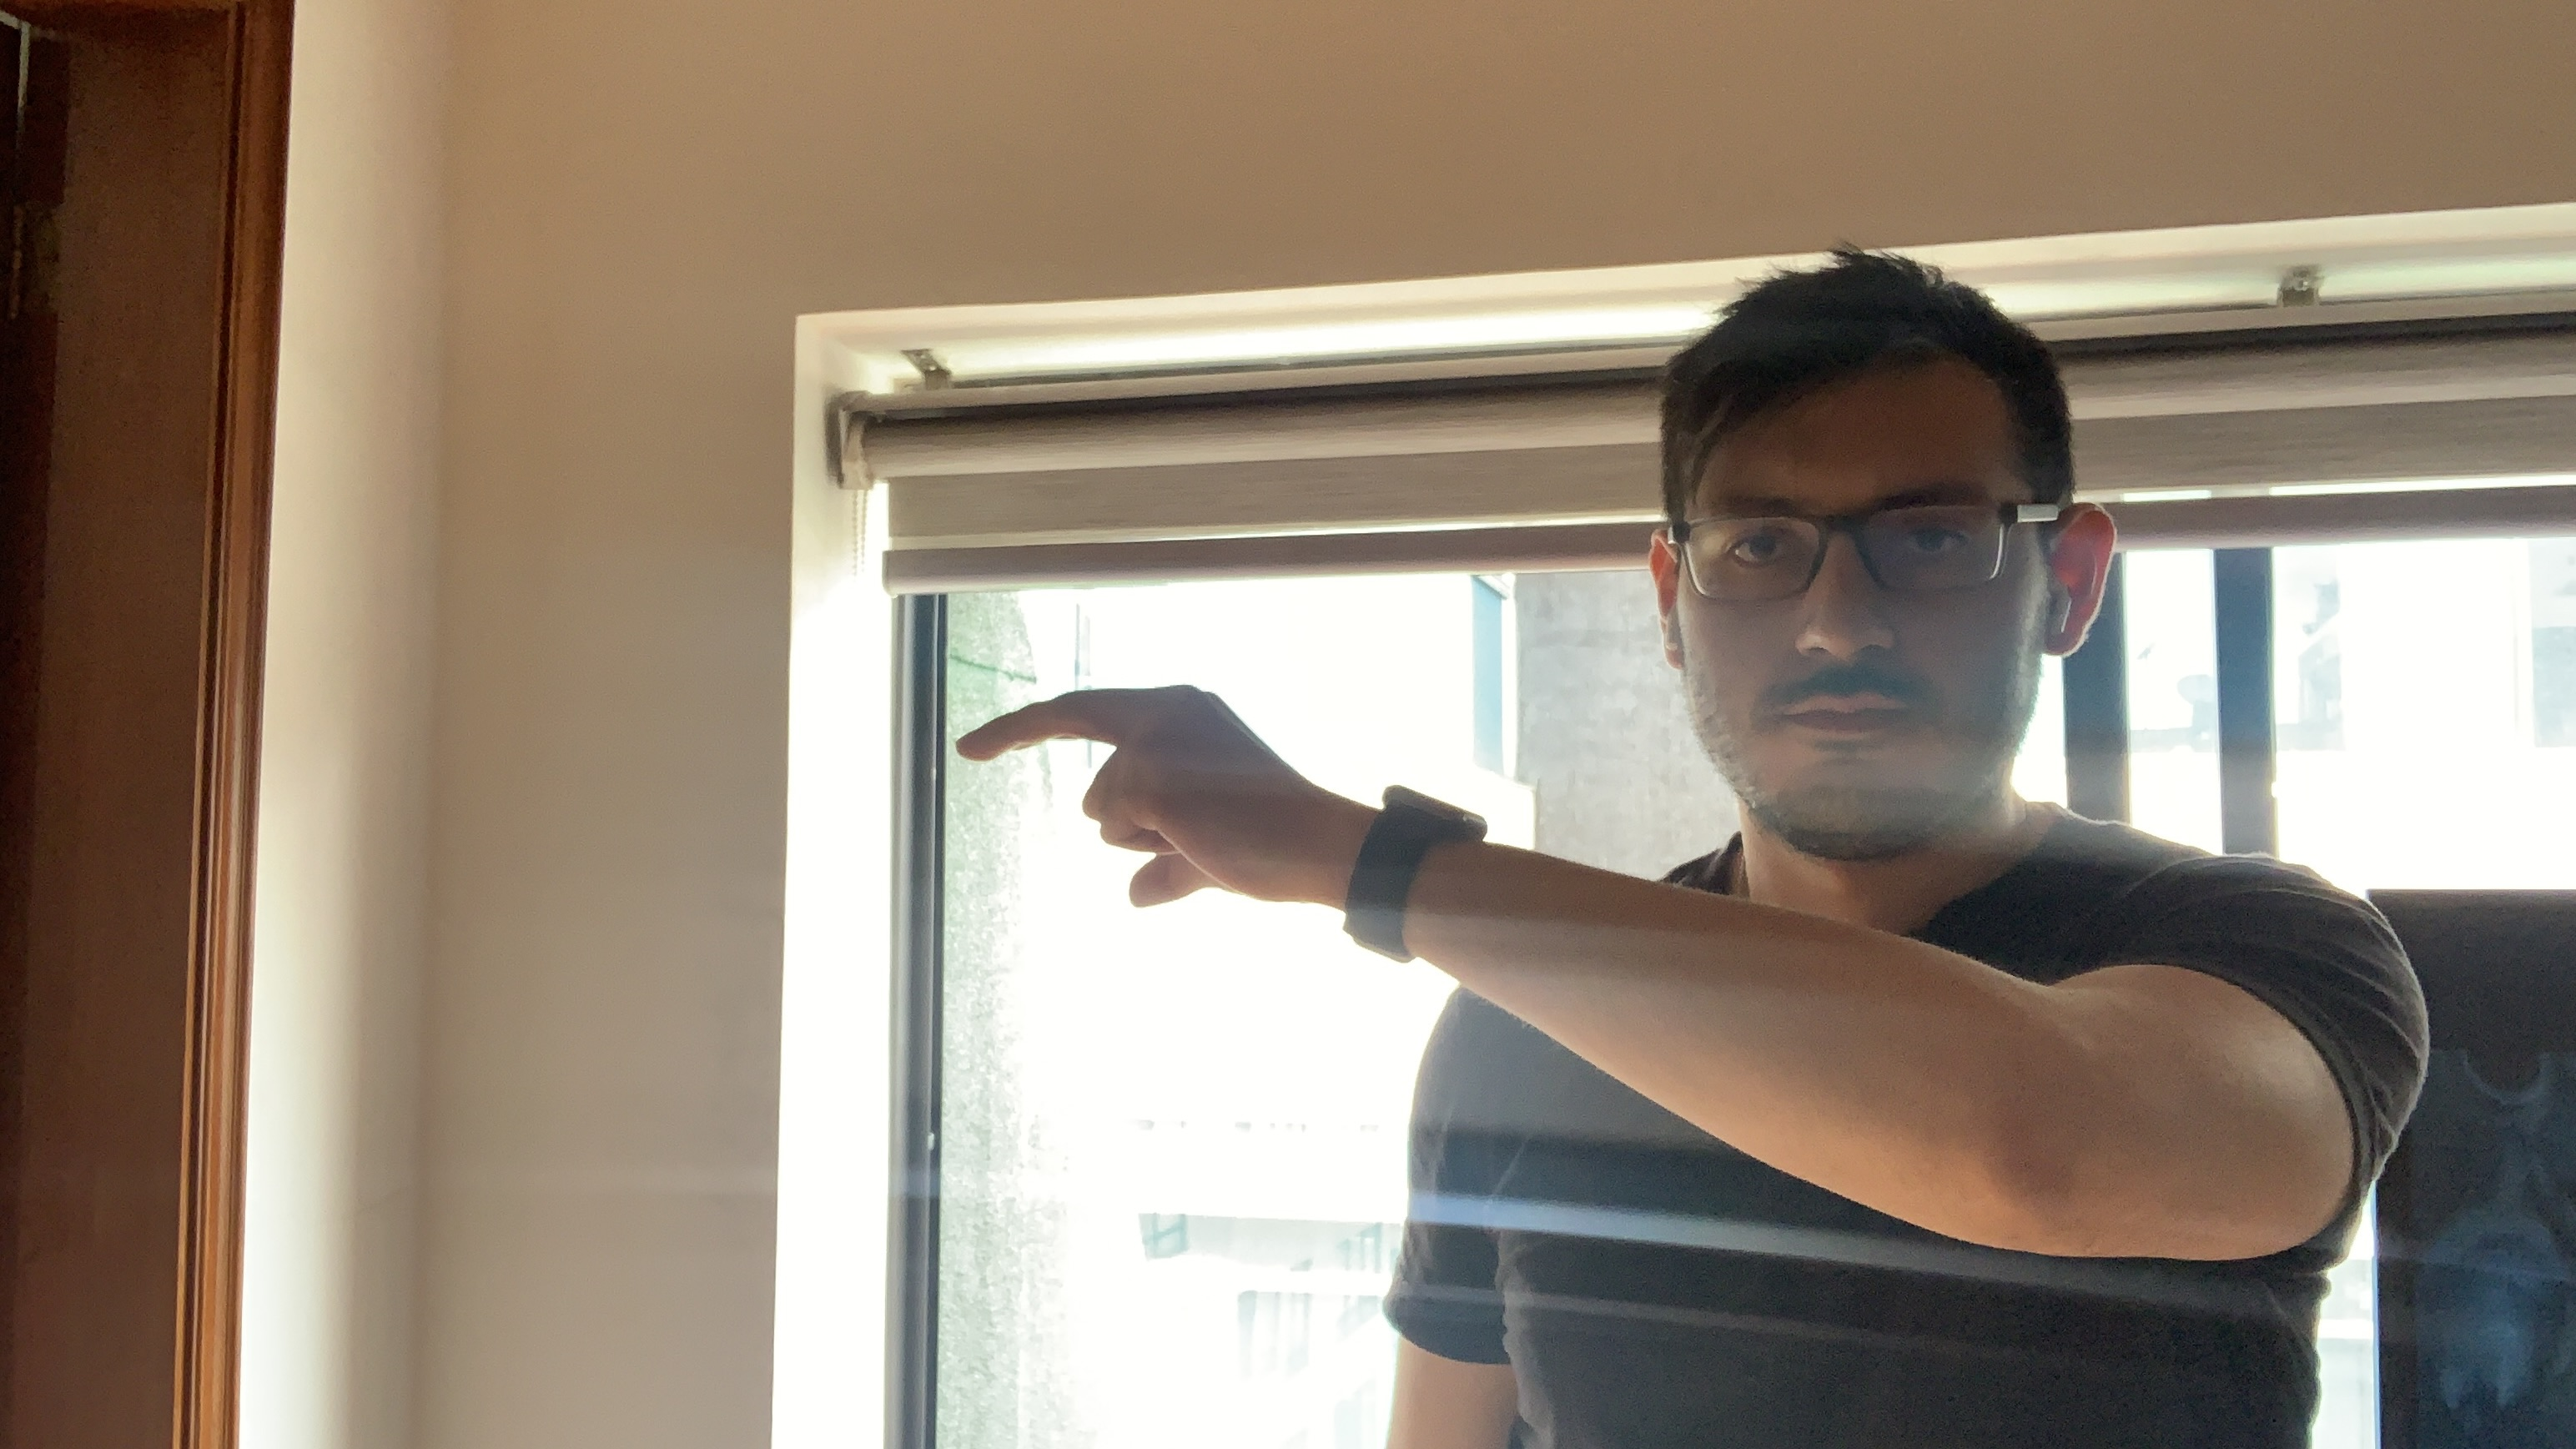No: (957, 681, 1309, 934)
